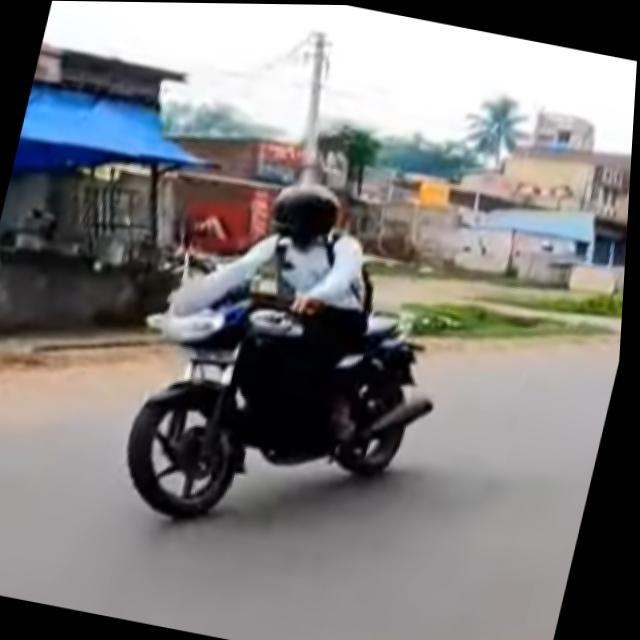WITH_HELMET: (259, 178, 360, 249)
normal: (142, 151, 483, 417)
